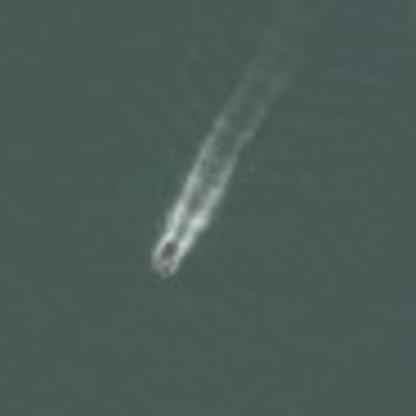ship: (150, 219, 188, 290)
